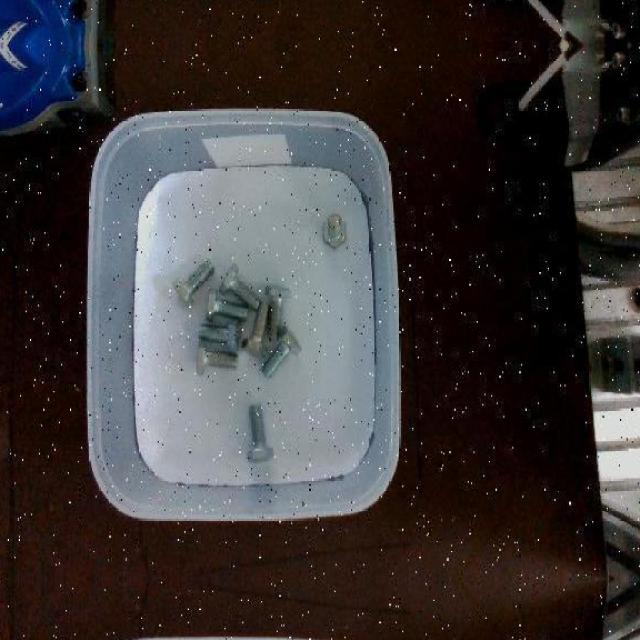screw: (261, 324, 301, 380), (173, 259, 216, 309), (220, 264, 261, 310), (242, 300, 271, 356), (248, 402, 274, 462), (195, 339, 239, 374), (197, 317, 241, 352), (205, 288, 248, 322), (266, 284, 292, 340), (323, 213, 347, 249)
